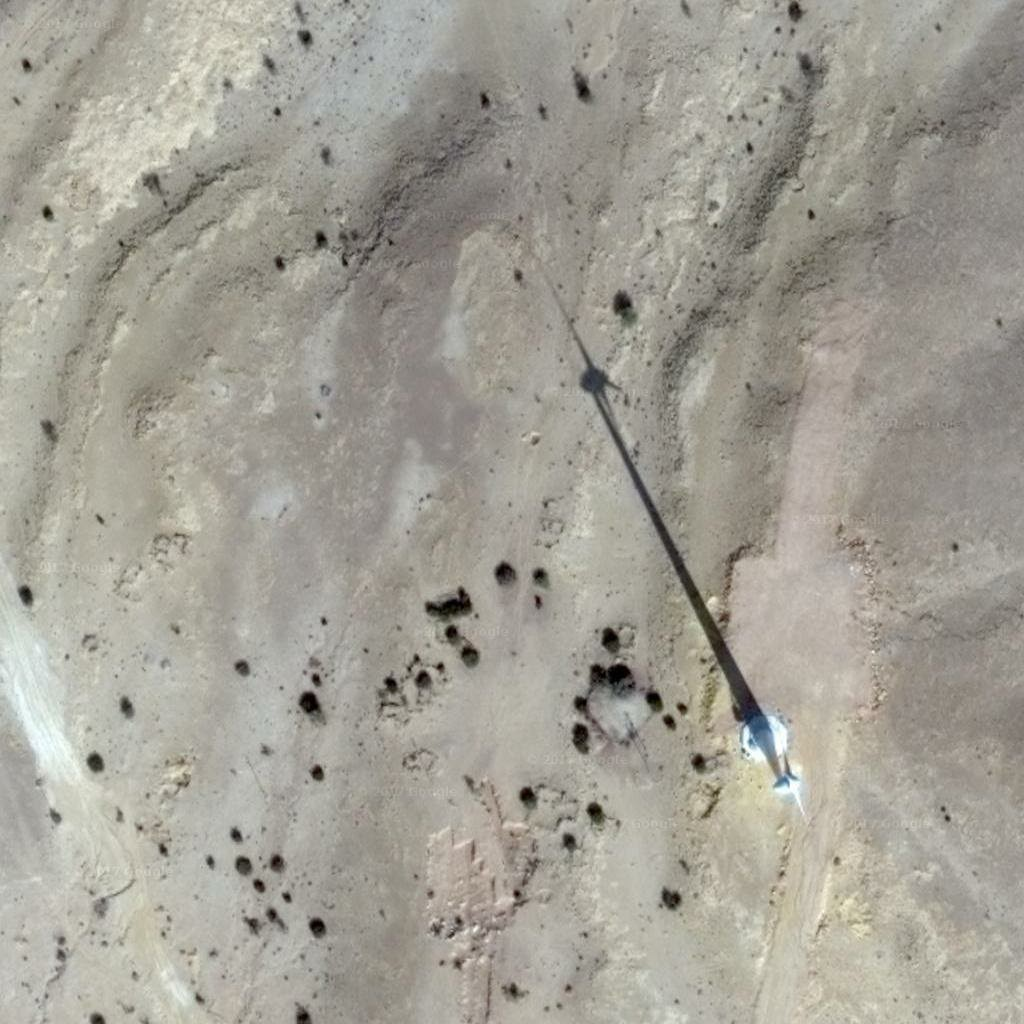Windmill: (530, 282, 786, 728)
